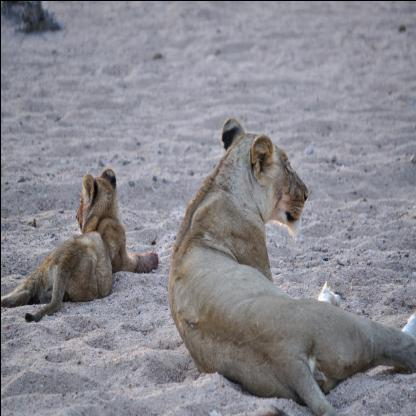lion: (215, 118, 307, 236), (71, 160, 119, 230)
